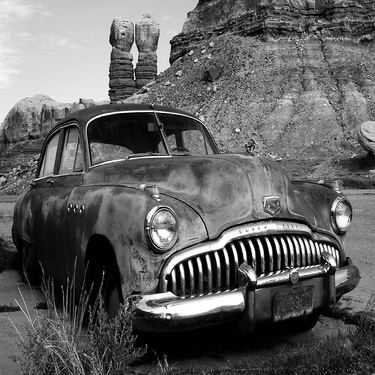car: (11, 94, 360, 336)
